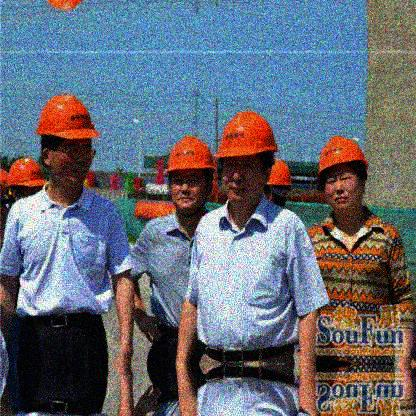helmet: (34, 91, 99, 183), (218, 110, 275, 202), (313, 136, 372, 212), (166, 137, 207, 210)
